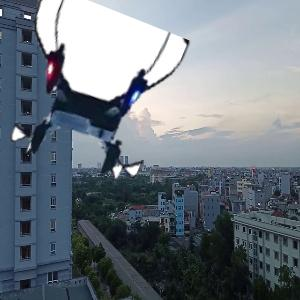drone: (7, 9, 178, 180)
